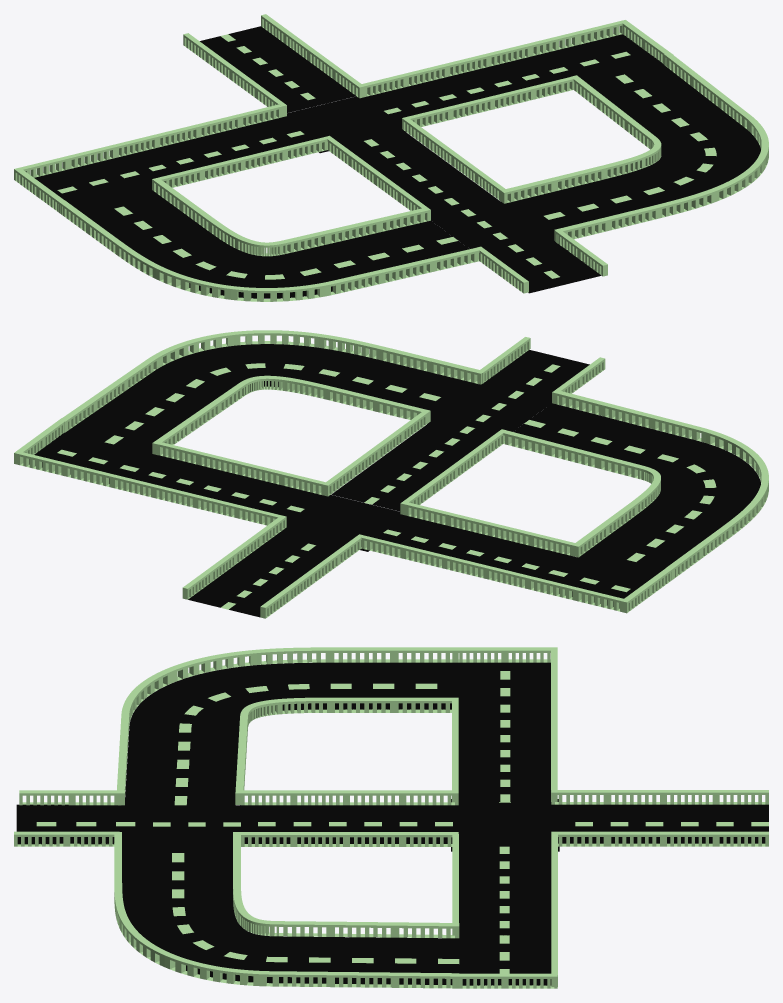
Rendered from Sci-fi_raceTrackArch.fbx.
3 views of the same model, one above another, from view 1: azimuth 30°, elevation 25°; view 2: azimuth 150°, elevation 25°; view 3: azimuth 270°, elevation 25° (orthographic). The views are drawn at different scales.
Parts seen in each view (by area): view 1: Plane.009, Plane.008, LeftWall.008, LeftWall.009, RightWall.008, RightWall.009, Plane.013, TrackArch, Plane.012, Plane.010, Plane.011, Plane.001 (+29 smaller); view 2: Plane.008, Plane.009, LeftWall.009, LeftWall.008, RightWall.009, RightWall.008, TrackArch, Plane.011, Plane.010, Plane, Plane.006, Plane.001 (+29 smaller); view 3: Plane.008, Plane.009, LeftWall.009, LeftWall.008, Plane.012, TrackArch, Plane.003, Plane.002, Plane.004, Plane.005, Plane.010, Plane.013 (+19 smaller).
Boxes of the visible parts, x1,y1,x2,y2 form: Plane.009: (505,65,760,239); Plane.008: (76,190,469,298); LeftWall.008: (59,200,479,301); LeftWall.009: (554,52,768,242); RightWall.008: (152,177,430,256); RightWall.009: (500,75,661,203); Plane.013: (530,34,663,83); TrackArch: (282,96,405,153); Plane.012: (34,157,151,208); Plane.010: (431,201,548,250); Plane.011: (487,236,601,293); Plane.001: (247,61,355,112); Plane.008: (513,403,760,576); Plane.009: (65,344,480,453); LeftWall.009: (59,330,484,432); LeftWall.008: (555,391,768,579); RightWall.009: (152,375,430,455); RightWall.008: (500,429,660,557); TrackArch: (284,494,405,551); Plane.011: (475,350,589,406); Plane.010: (427,389,546,438); Plane: (188,565,296,617); Plane.006: (331,459,439,511); Plane.001: (236,529,344,579); Plane.008: (125,662,458,805); Plane.009: (122,844,459,985); LeftWall.009: (114,832,459,988); LeftWall.008: (117,647,458,804); Plane.012: (458,662,550,712); TrackArch: (451,799,559,851); Plane.003: (458,712,550,757); Plane.002: (458,757,550,801); Plane.004: (459,846,551,890); Plane.005: (459,891,551,935); Plane.010: (135,805,240,844); Plane.013: (459,935,551,985).
Size of the model in its own units: 7381 by 136 by 7150.
